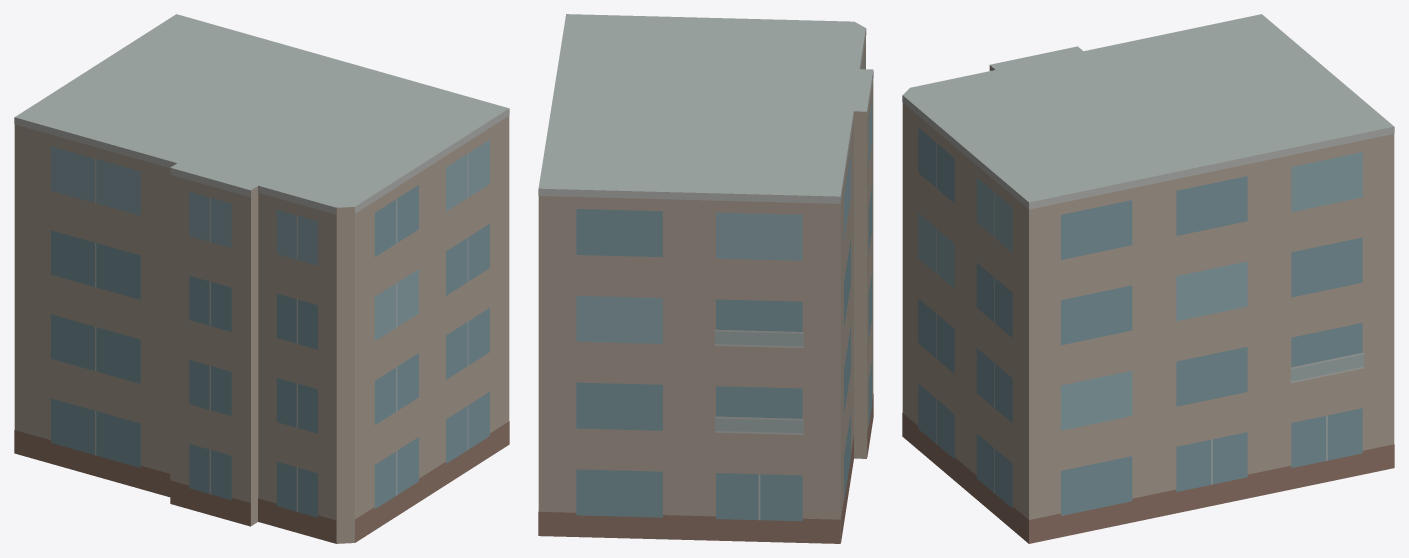
The model's file is survey-upis-32728400.glb.
The picture shows the model from 3 angles, left to right: view 1: azimuth 30°, elevation 25°; view 2: azimuth 150°, elevation 25°; view 3: azimuth 270°, elevation 25°; orthographic projection. The views are drawn at different scales.
Visible parts, largest first — view 1: survey-upis-32728400.tmp; view 2: survey-upis-32728400.tmp; view 3: survey-upis-32728400.tmp.
Boxes of the visible parts, x1,y1,x2,y2 form: survey-upis-32728400.tmp: (14, 14, 509, 543); survey-upis-32728400.tmp: (538, 14, 873, 543); survey-upis-32728400.tmp: (902, 14, 1394, 543).
Bounding box in the file's own units: 13.87 × 11.7 × 15.29.
